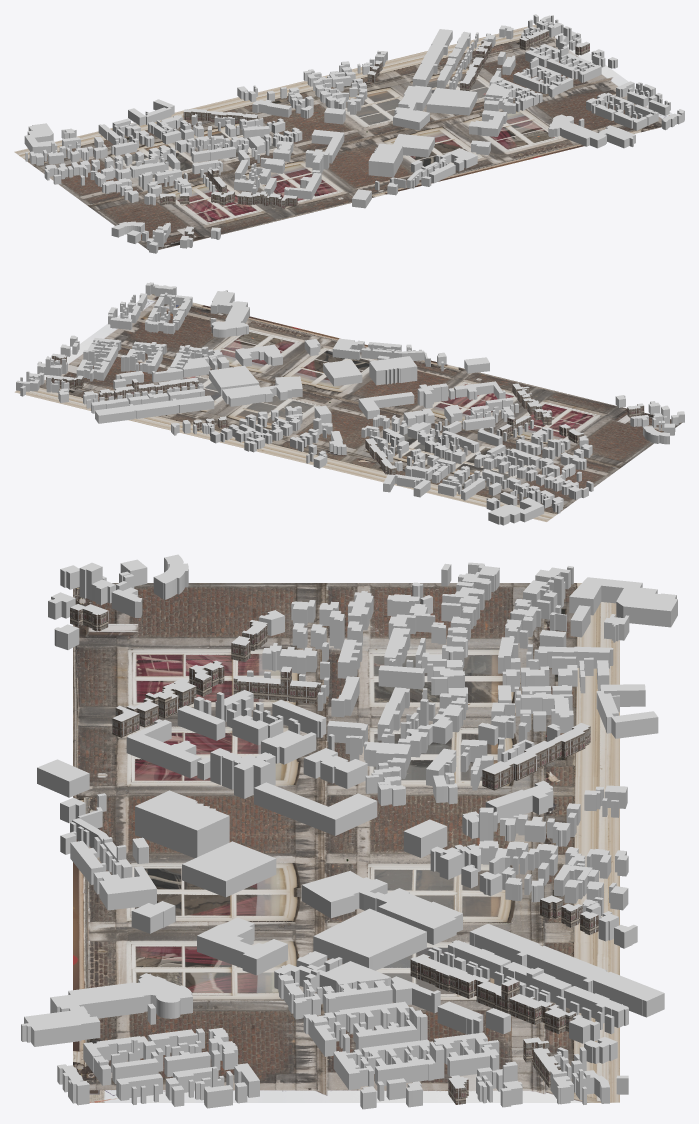
3 views of the same model, one above another, from view 1: azimuth 30°, elevation 25°; view 2: azimuth 150°, elevation 25°; view 3: azimuth 270°, elevation 25° (orthographic). The views are drawn at different scales.
Visible parts, largest first — view 1: Areas:building, Ground Texture Mesh; view 2: Areas:building, Ground Texture Mesh; view 3: Areas:building, Ground Texture Mesh.
Boxes of the visible parts, left/top/right/bottom form: Areas:building: left=24, top=14, right=684, bottom=253; Ground Texture Mesh: left=14, top=24, right=672, bottom=250; Areas:building: left=16, top=282, right=684, bottom=525; Ground Texture Mesh: left=14, top=294, right=682, bottom=521; Areas:building: left=21, top=554, right=677, bottom=1109; Ground Texture Mesh: left=73, top=583, right=619, bottom=1102.
Bounding box in the file's own units: 142600 × 3935 × 73492.
7 materials, 3 textured.
